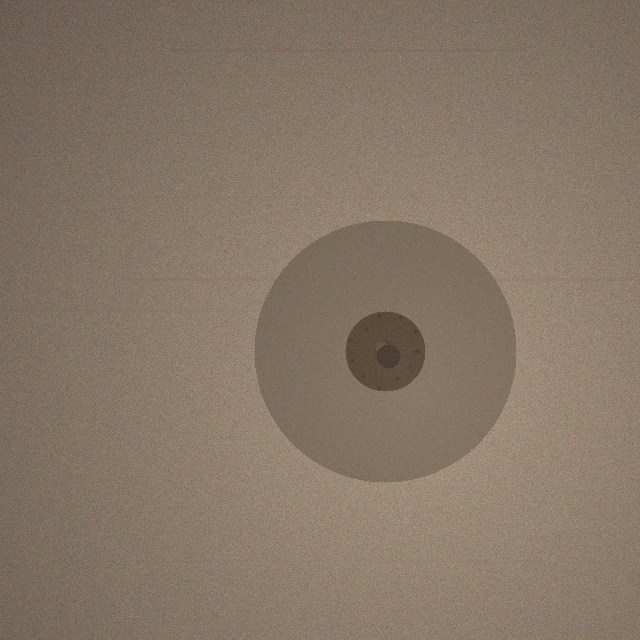cold_weld: (254, 220, 516, 482)
